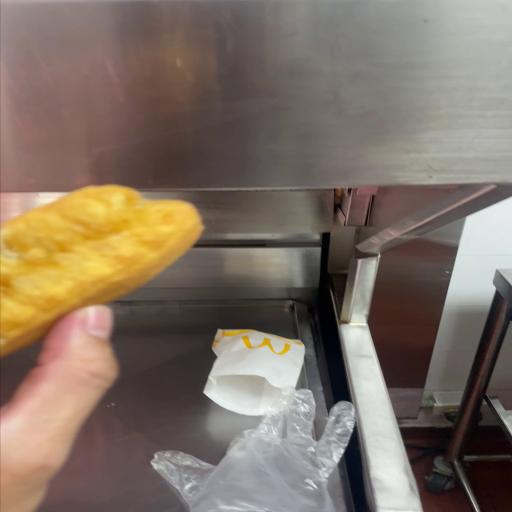brand_golden_good: (1, 185, 200, 354)
